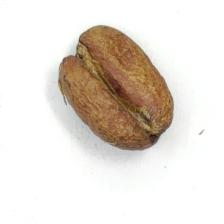NG: (62, 25, 167, 141)
